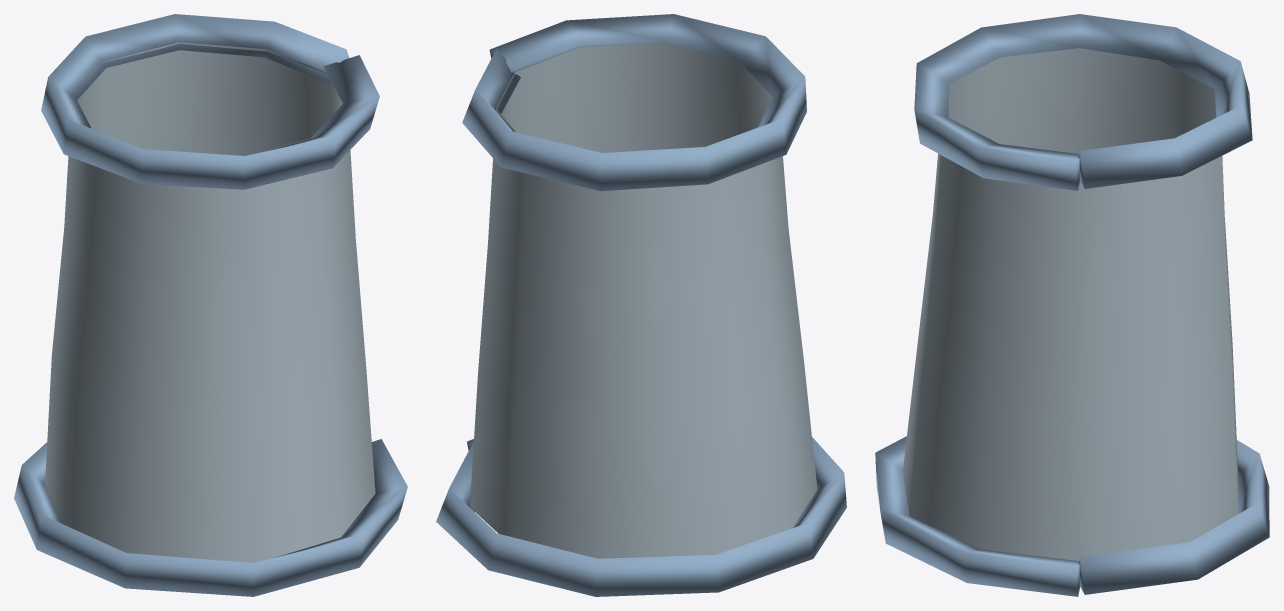
Rendered from platinum_armor_bracer.L.glb.
3 views of the same model, side by side, from view 1: azimuth 30°, elevation 25°; view 2: azimuth 150°, elevation 25°; view 3: azimuth 270°, elevation 25° (orthographic). The views are drawn at different scales.
Visible parts, largest first — view 1: platinum_armor_bracer.L; view 2: platinum_armor_bracer.L; view 3: platinum_armor_bracer.L.
Part boxes in pixels (x1,y1,x2,y2): platinum_armor_bracer.L: (14,14,407,596); platinum_armor_bracer.L: (436,14,846,596); platinum_armor_bracer.L: (875,14,1269,596).
Bounding box in the file's own units: 0.144 × 0.1719 × 0.1414.
